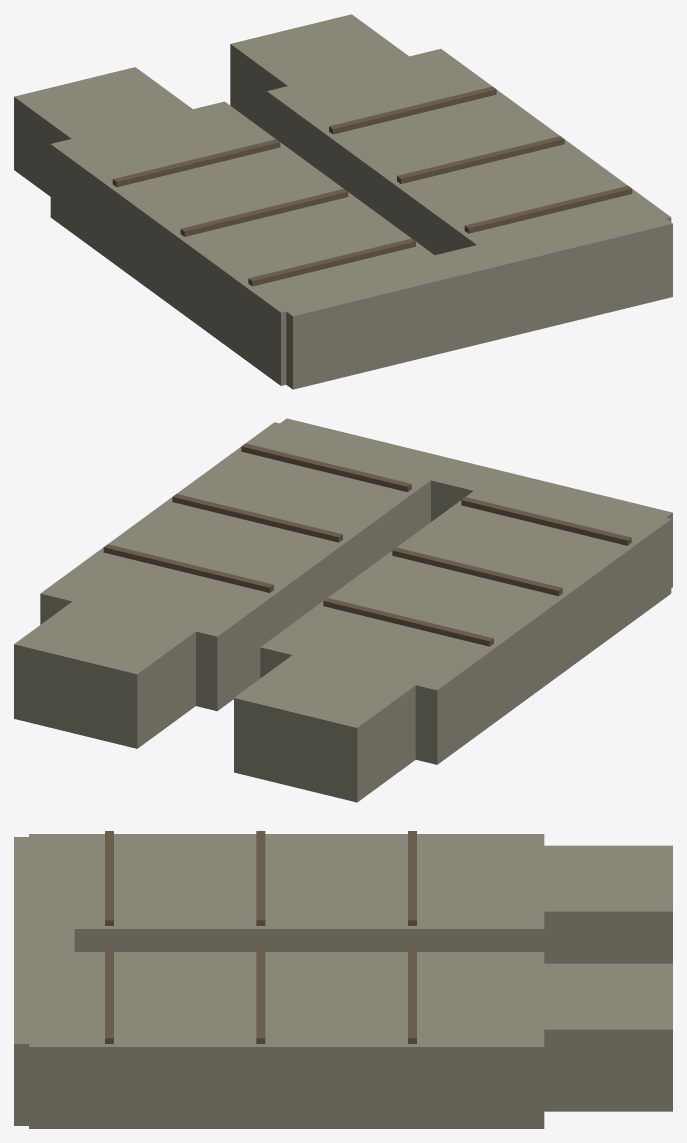
File: quilted_vest.glb
The picture shows the model from 3 angles, top to bottom: view 1: azimuth 30°, elevation 25°; view 2: azimuth 150°, elevation 25°; view 3: azimuth 270°, elevation 25°; orthographic projection. The views are drawn at different scales.
Parts seen in each view (by area): view 1: quilted_vest; view 2: quilted_vest; view 3: quilted_vest.
Boxes of the visible parts, x1,y1,x2,y2 form: quilted_vest: (14, 14, 672, 389); quilted_vest: (14, 418, 672, 802); quilted_vest: (14, 831, 672, 1128).
Bounding box in the file's own units: 0.624 × 0.12 × 0.816.
